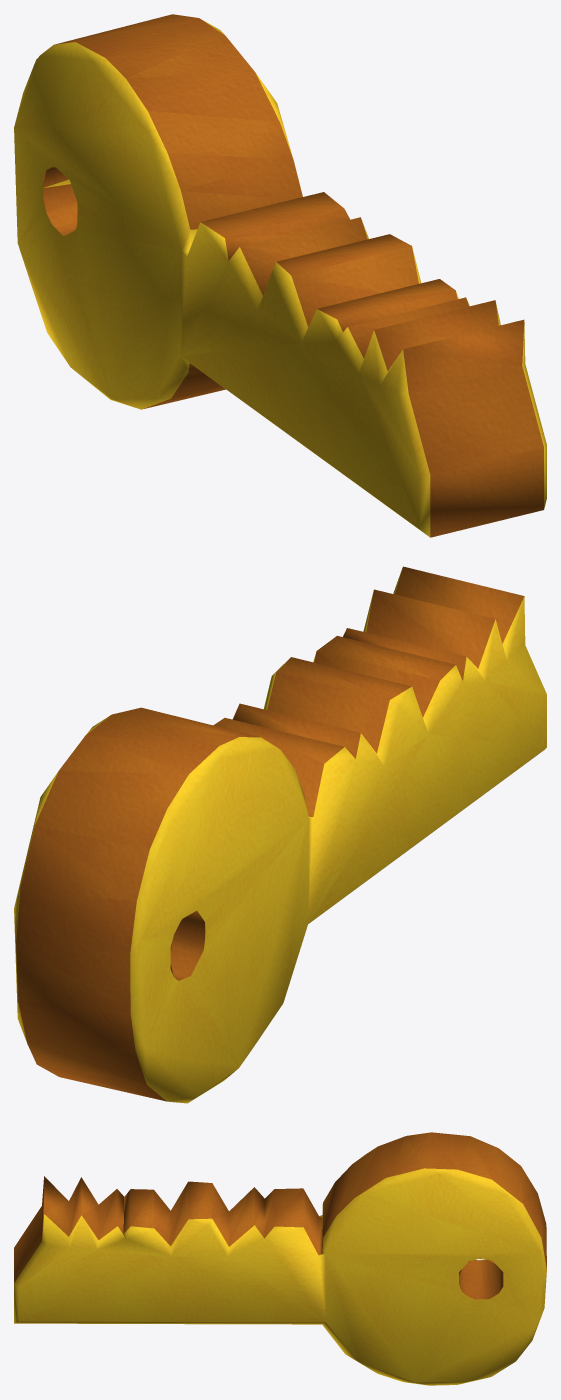
The model's file is key 01.fbx.
3 renders of one model, top to bottom at view 1: azimuth 30°, elevation 25°; view 2: azimuth 150°, elevation 25°; view 3: azimuth 270°, elevation 25°, orthographic. The views are drawn at different scales.
Visible parts, largest first — view 1: key 001; view 2: key 001; view 3: key 001.
Boxes of the visible parts, box(x1,y1,x2,y2) form: key 001: box(14, 14, 546, 537); key 001: box(14, 566, 546, 1103); key 001: box(14, 1132, 546, 1385).
Size of the model in its own units: 117 by 295 by 656.
